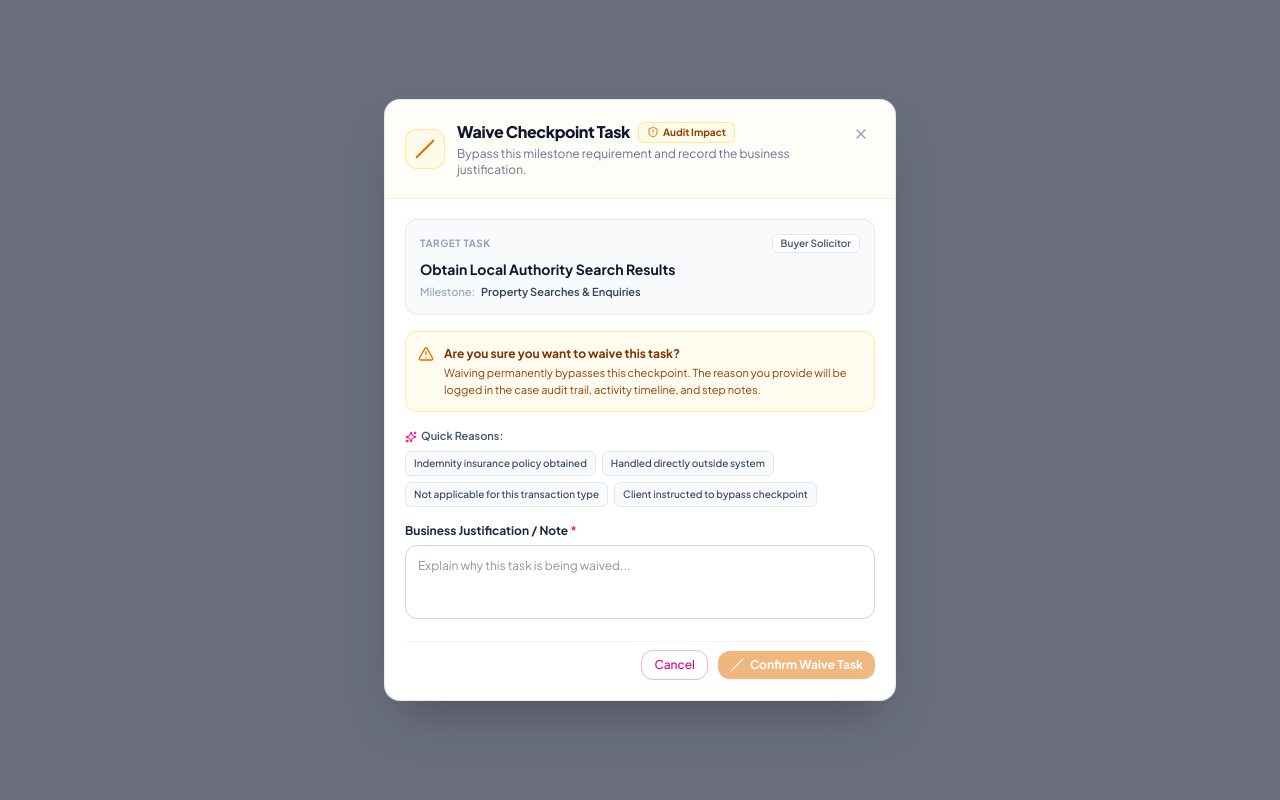
Test case: WaiveWorkItemModal › validates minimum reason length before submitting
Expected: the button "Confirm Waive Task" is disabled, [718,651,875,679]
Type "ab" into the text box labelled "Business Justification / Note *" at (640, 582), box [405,545,875,619]
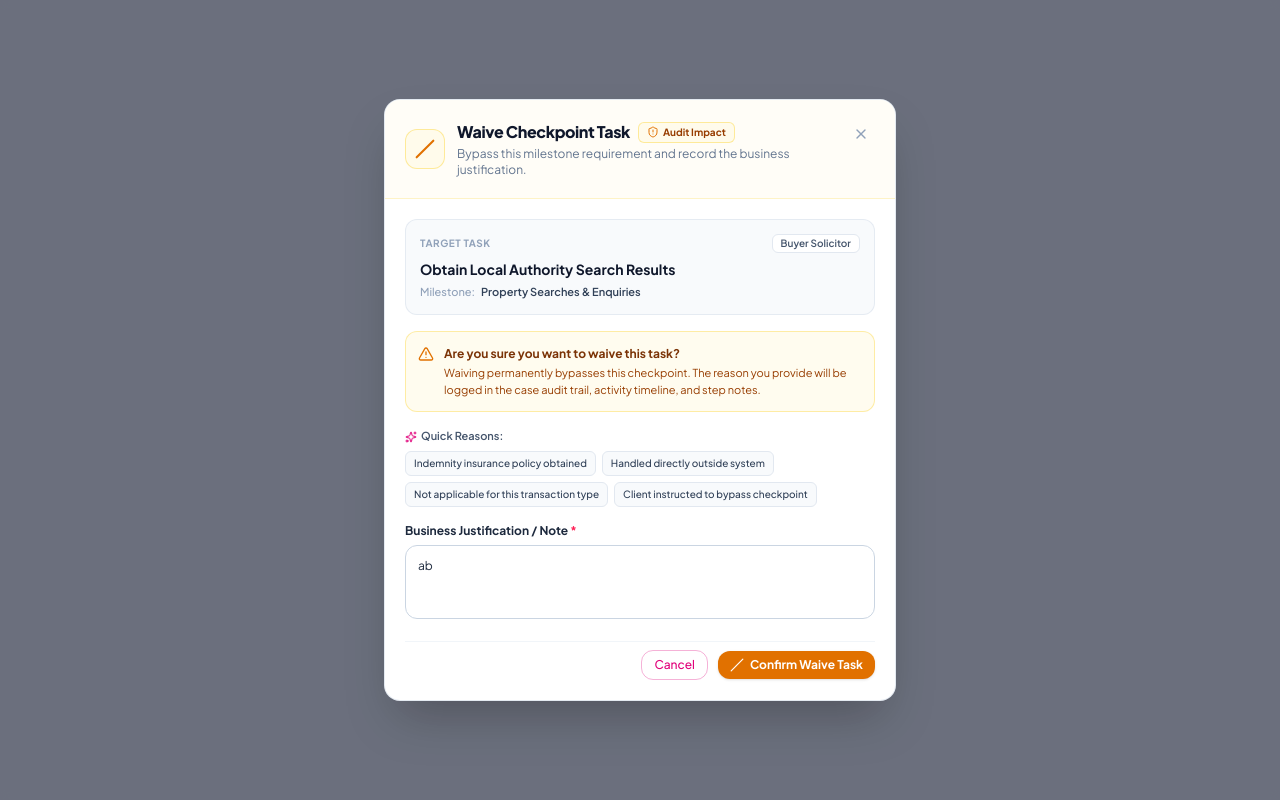
# Submit form directly to test validation check
Submit the form named "Business Justification / Note", box [385,199,895,700]
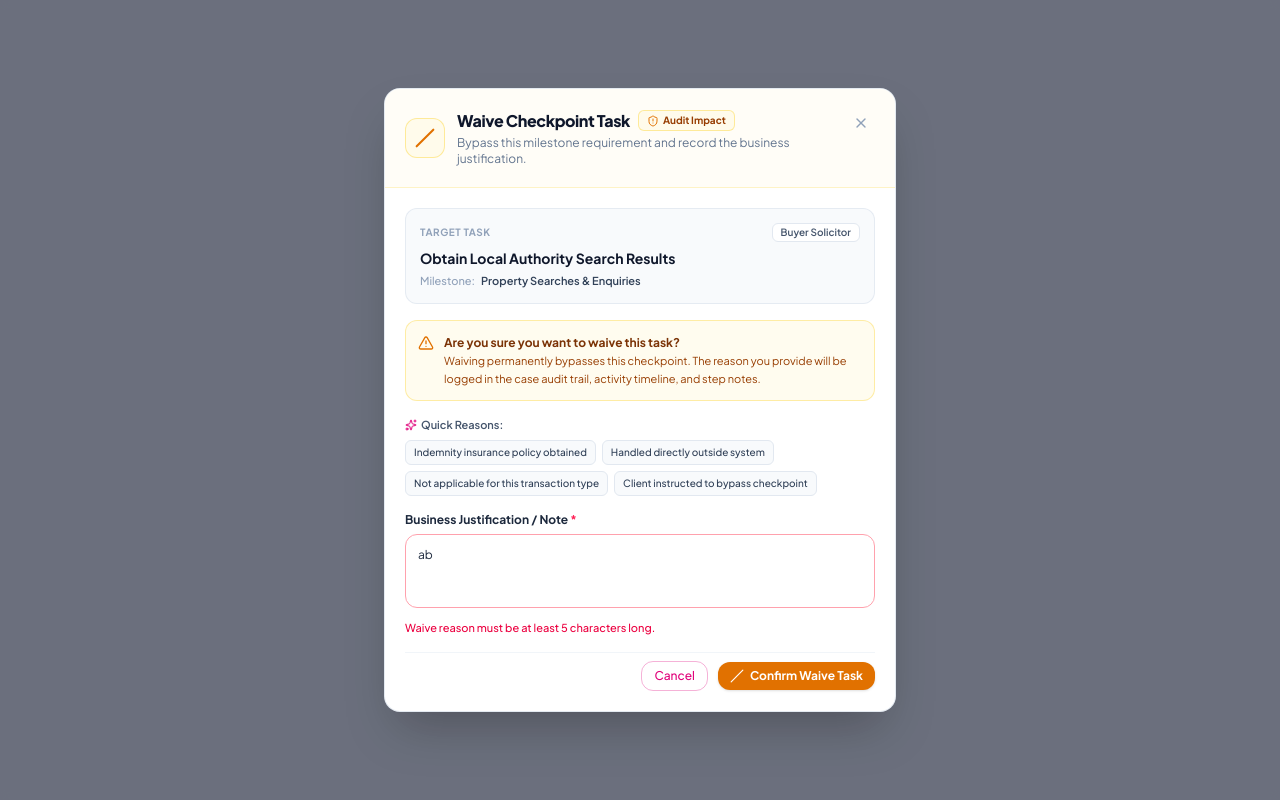
Result: the text "Waive reason must be at least 5 characters long." is shown at [405,621,655,634]
